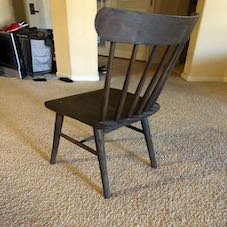chair: (38, 4, 205, 189)
